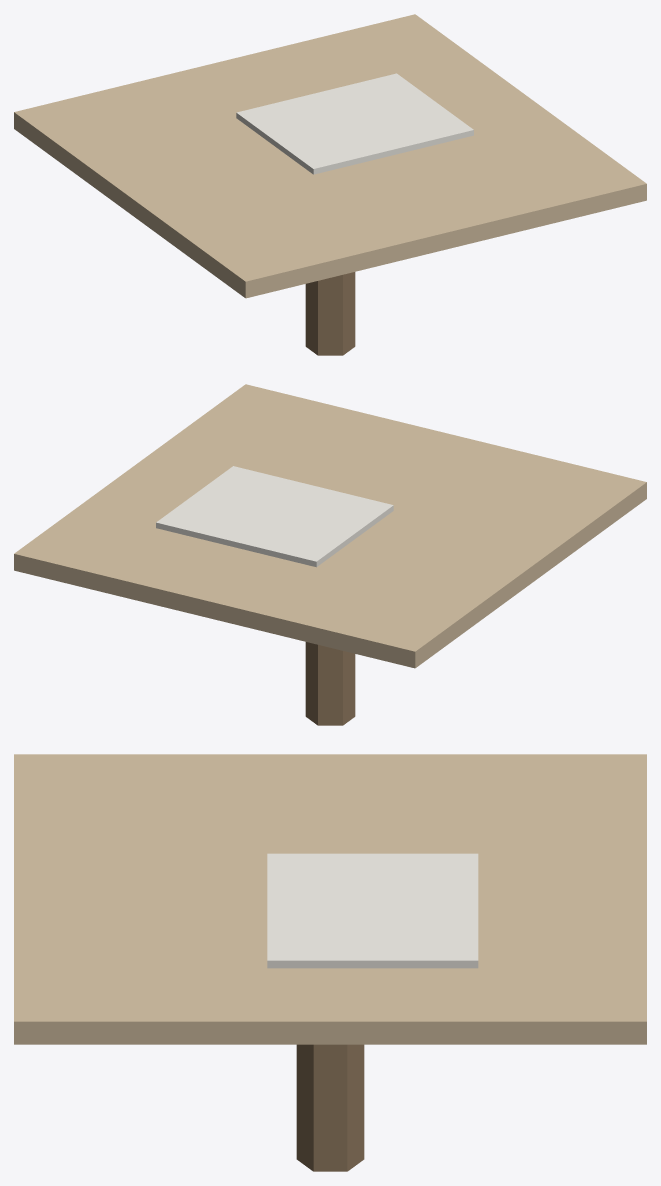
The model's file is prop-hawk-board-blank.fbx.
3 views of the same model, one above another, from view 1: azimuth 30°, elevation 25°; view 2: azimuth 150°, elevation 25°; view 3: azimuth 270°, elevation 25° (orthographic). The views are drawn at different scales.
Parts seen in each view (by area): view 1: prop-hawk-board-blank; view 2: prop-hawk-board-blank; view 3: prop-hawk-board-blank.
Part boxes in pixels (x1,y1,x2,y2): prop-hawk-board-blank: (14,14,646,355); prop-hawk-board-blank: (14,384,646,725); prop-hawk-board-blank: (14,754,646,1171).
Size of the model in its own units: 30 by 14.6 by 30.
